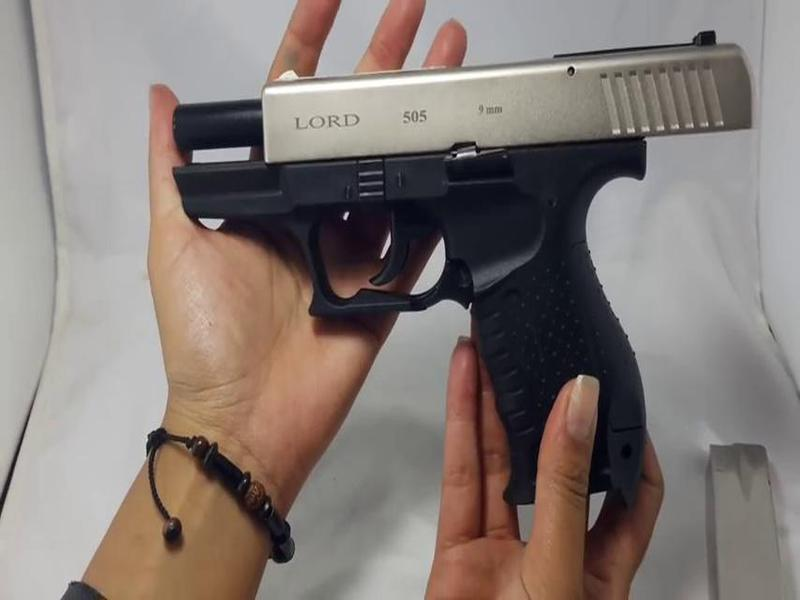Pistola: (135, 33, 765, 500)
